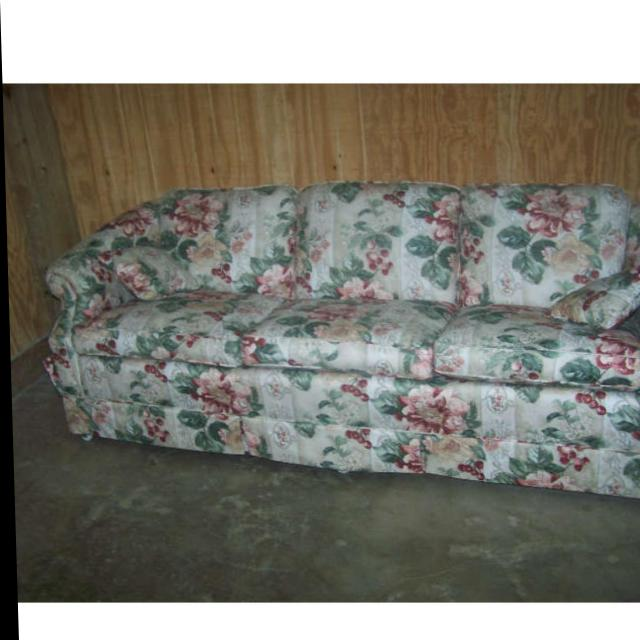Sofa: (41, 180, 640, 506)
